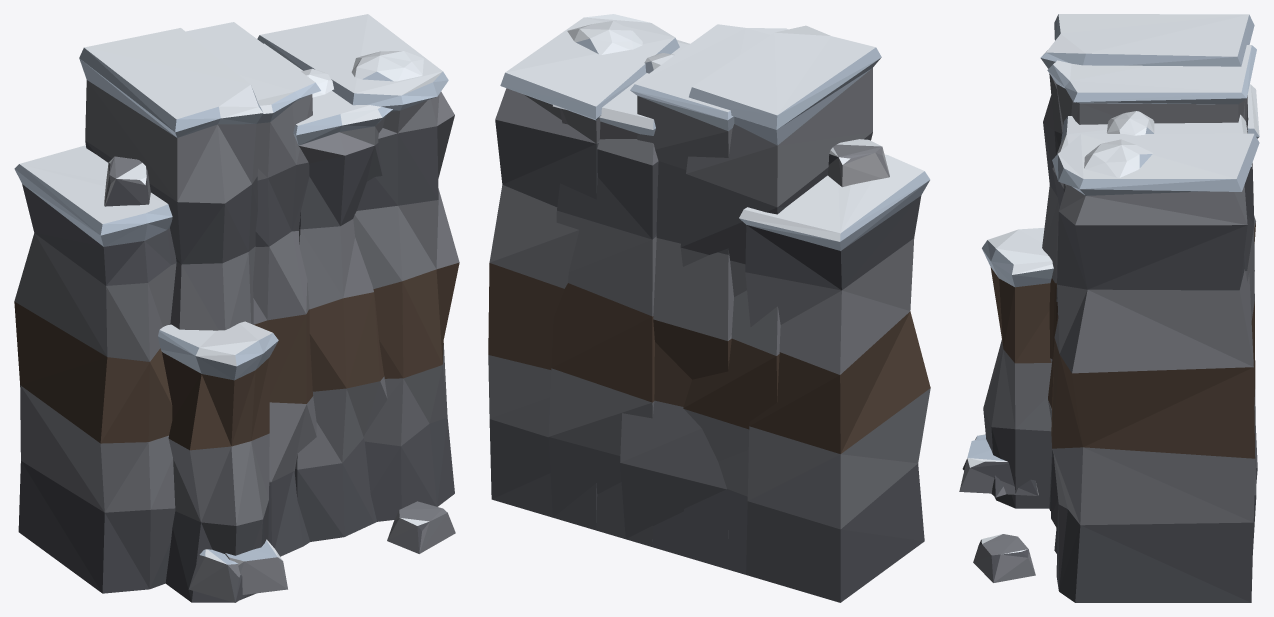
File: cliff_c.fbx
3 renders of one model, left to right at view 1: azimuth 30°, elevation 25°; view 2: azimuth 150°, elevation 25°; view 3: azimuth 270°, elevation 25°, orthographic.
Visible parts, largest first — view 1: cliff_c; view 2: cliff_c; view 3: cliff_c.
Boxes of the visible parts, left/top/right/bottom form: cliff_c: left=14, top=14, right=459, bottom=602; cliff_c: left=488, top=14, right=930, bottom=602; cliff_c: left=959, top=14, right=1259, bottom=602.
Size of the model in its own units: 9.74 by 12.37 by 7.15.
